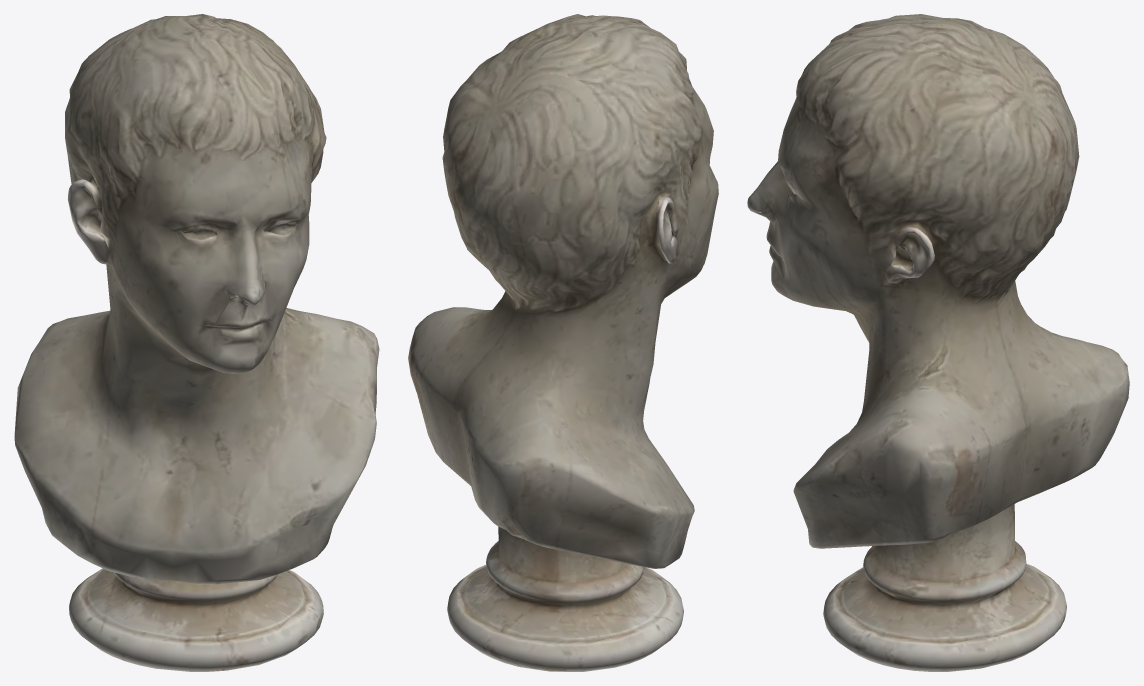
The model's file is ph_marble_bust_01.glb.
3 views of the same model, side by side, from view 1: azimuth 30°, elevation 25°; view 2: azimuth 150°, elevation 25°; view 3: azimuth 270°, elevation 25° (orthographic). The views are drawn at different scales.
Visible parts, largest first — view 1: marble_bust_01; view 2: marble_bust_01; view 3: marble_bust_01.
Boxes of the visible parts, x1,y1,x2,y2 form: marble_bust_01: (14, 14, 379, 671); marble_bust_01: (408, 14, 718, 671); marble_bust_01: (747, 14, 1129, 671).
Size of the model in its own units: 0.2718 by 0.5149 by 0.2997.
Materials: 1 (1 with a texture image).
